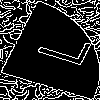L: (24, 25, 93, 69)
